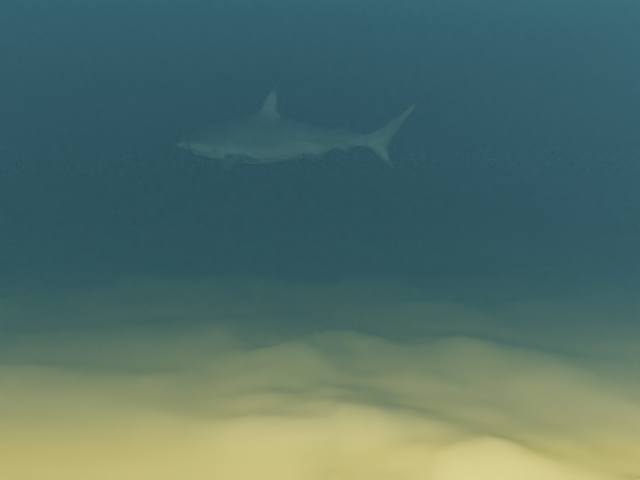Carribean Shark.001: (176, 86, 425, 172)
